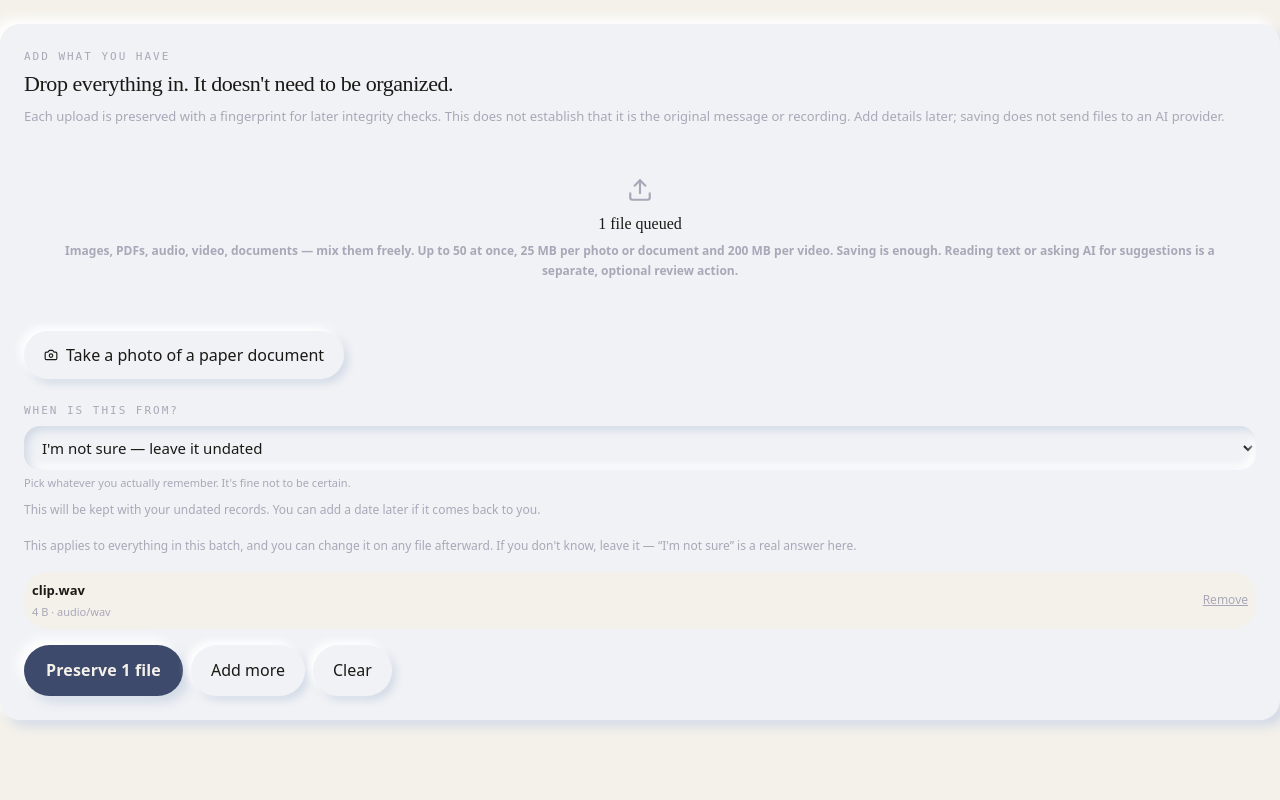
preservation is separate from outside processing › lets an interrupted upload retry the same storage key
Earlier steps of the test are not shown.
Later steps or results of the test are not shown.
Click the button "Preserve 1 file" at (104, 670), box [24,645,183,696]
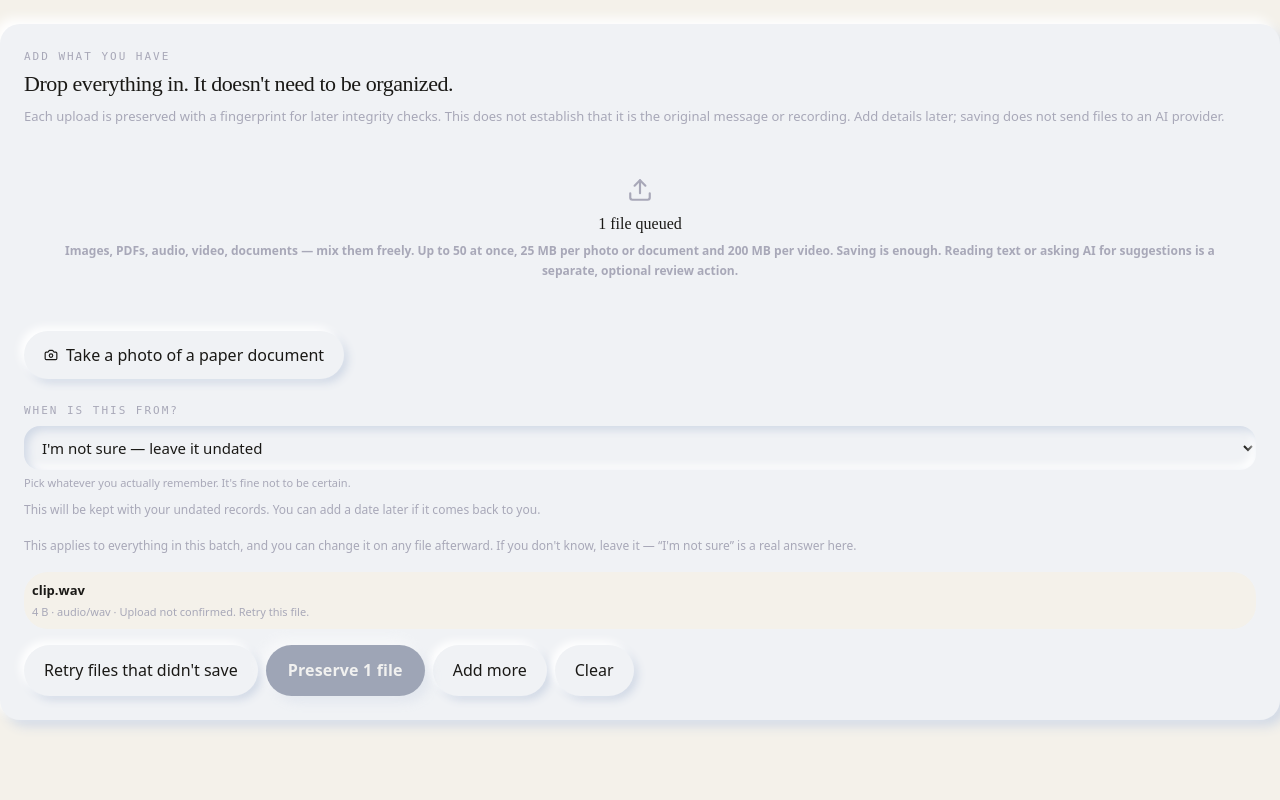
Expected: the button "Retry files that didn't save" is shown
Expected: the button "Retry files that didn't save" is enabled
Click the button "Retry files that didn't save" at (141, 670), box [24,645,258,696]
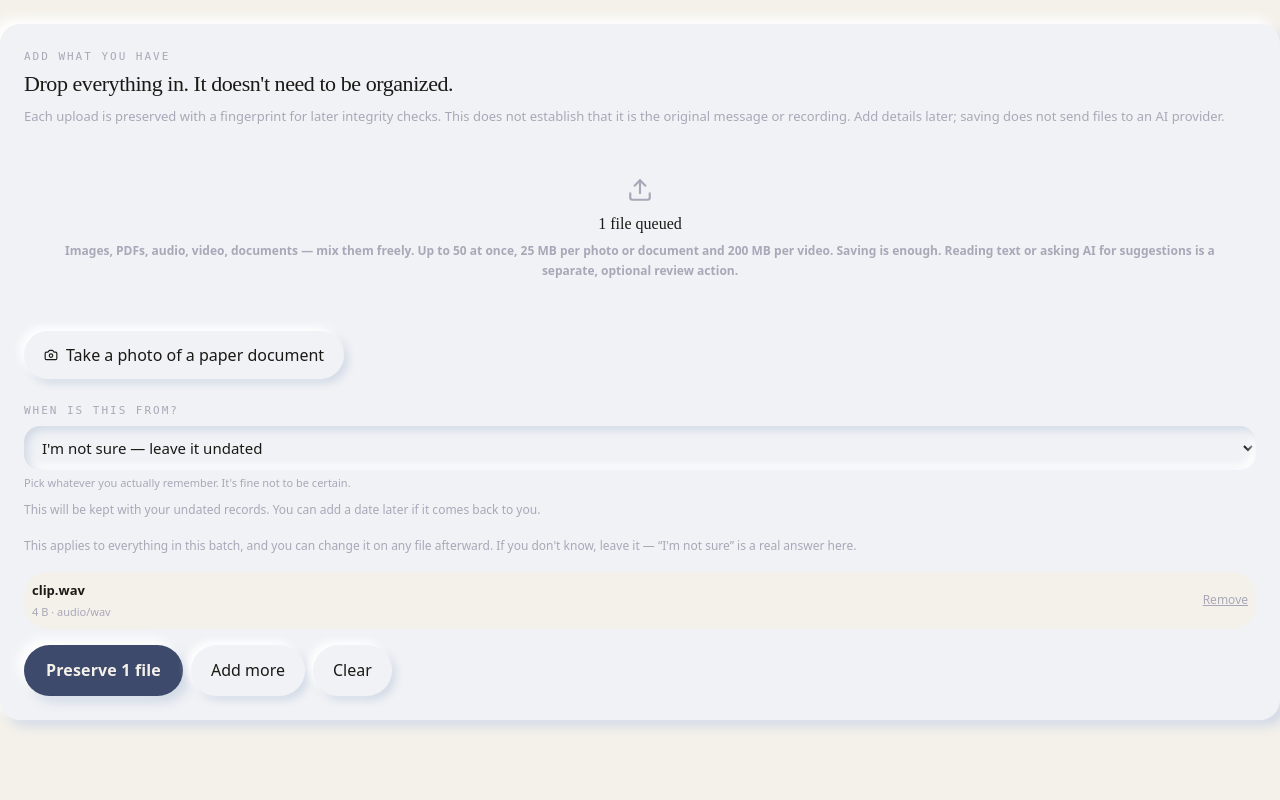
Expected: the button "Preserve 1 file" is enabled, [24,645,183,696]
